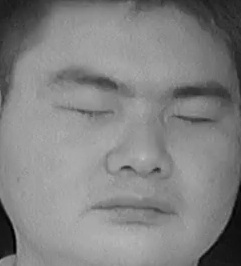blink: (65, 91, 114, 125), (171, 101, 218, 135)
mouth: (88, 186, 181, 234)
